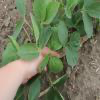Soyabean leaf: (16, 43, 40, 61), (39, 25, 52, 51), (65, 45, 79, 67), (82, 11, 93, 39), (33, 0, 46, 21), (48, 56, 63, 74), (58, 20, 68, 46), (68, 31, 81, 50), (87, 1, 99, 20)
